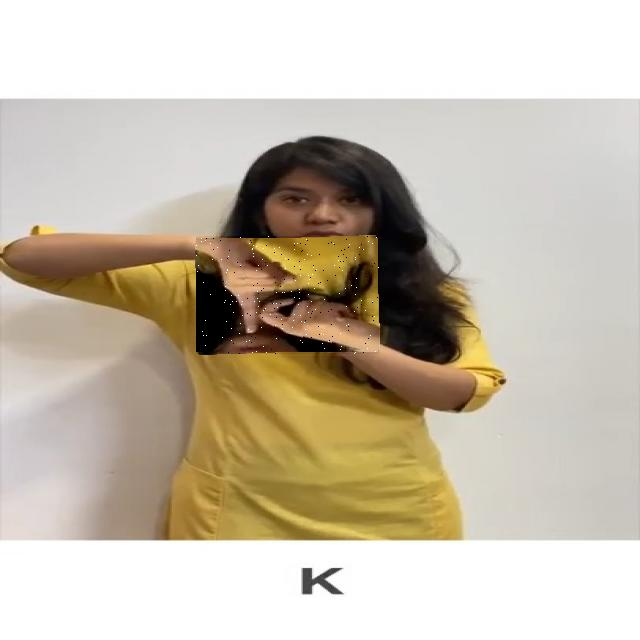K: (196, 236, 379, 354)
